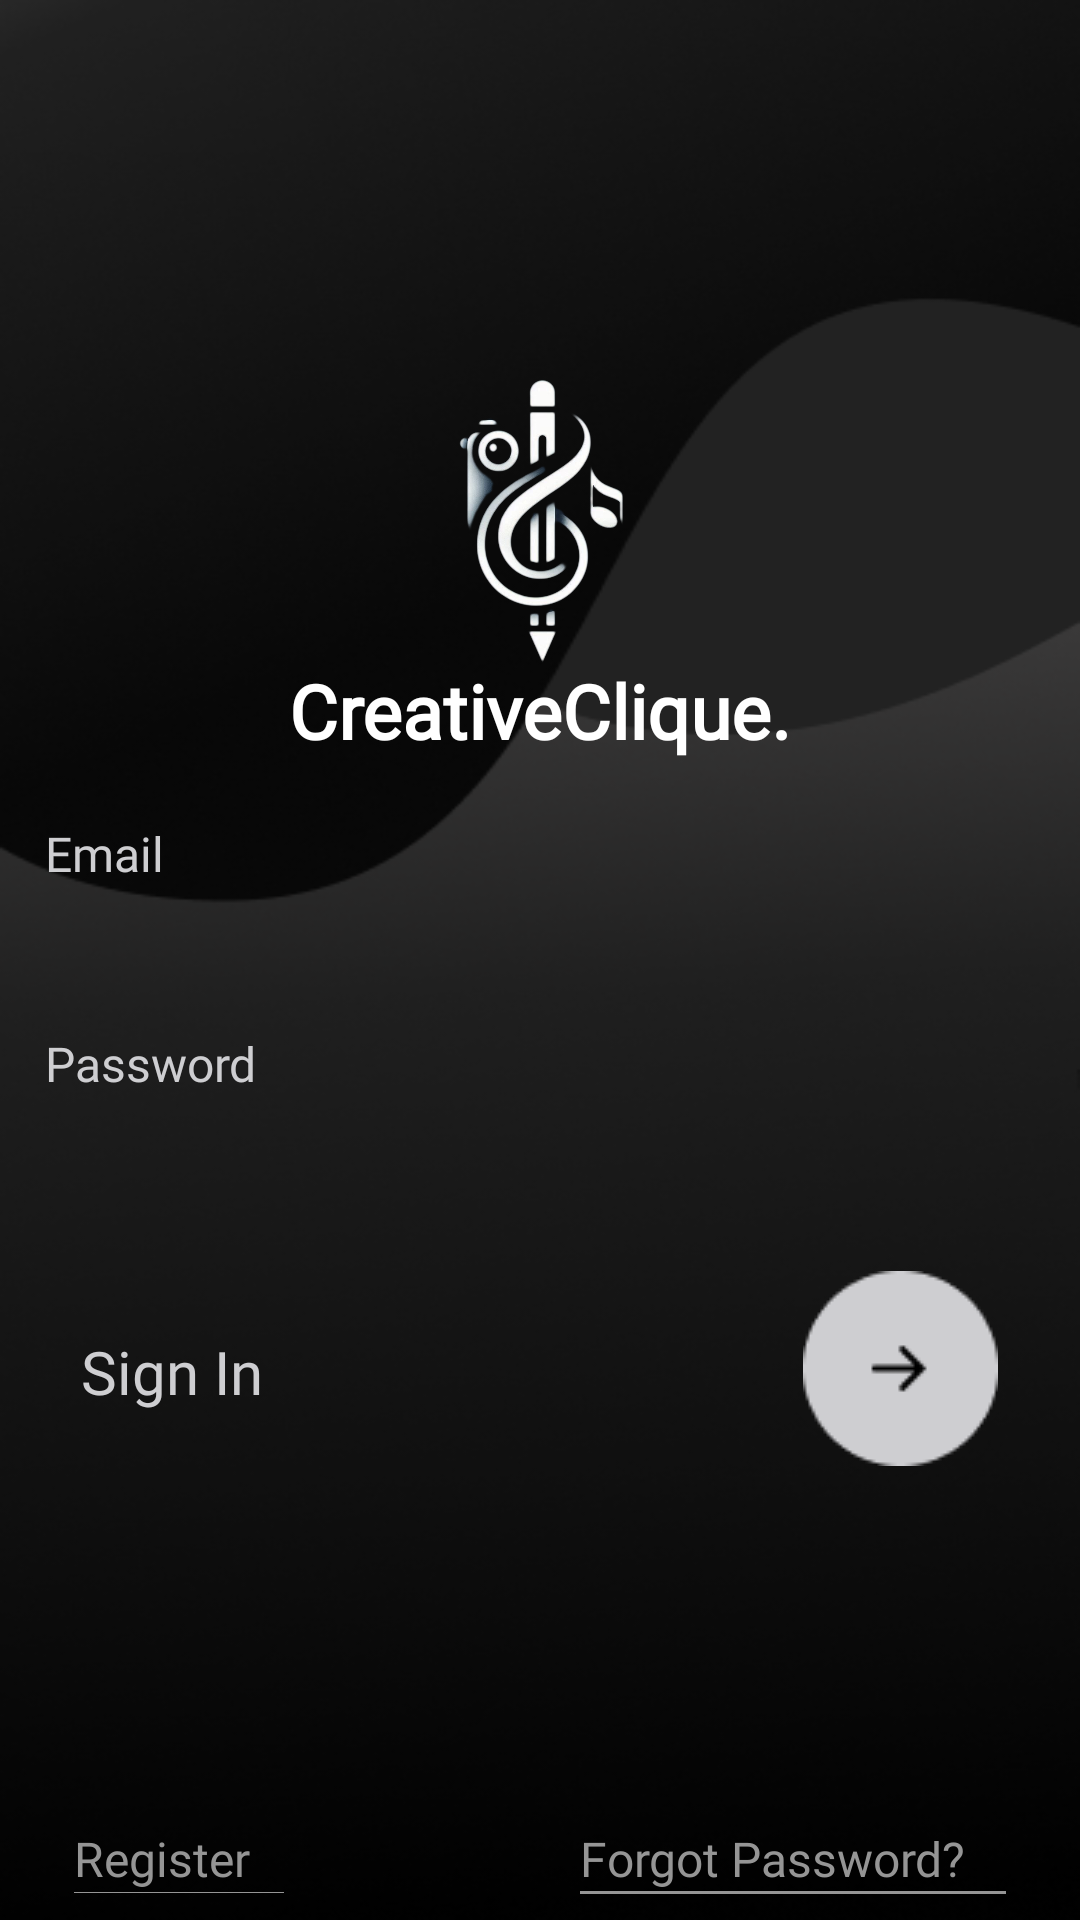

Where icons sit on this 1080px×1920px app screen, as (x1, y1, x2, y2):
signinupin: (803, 1271, 998, 1466)
